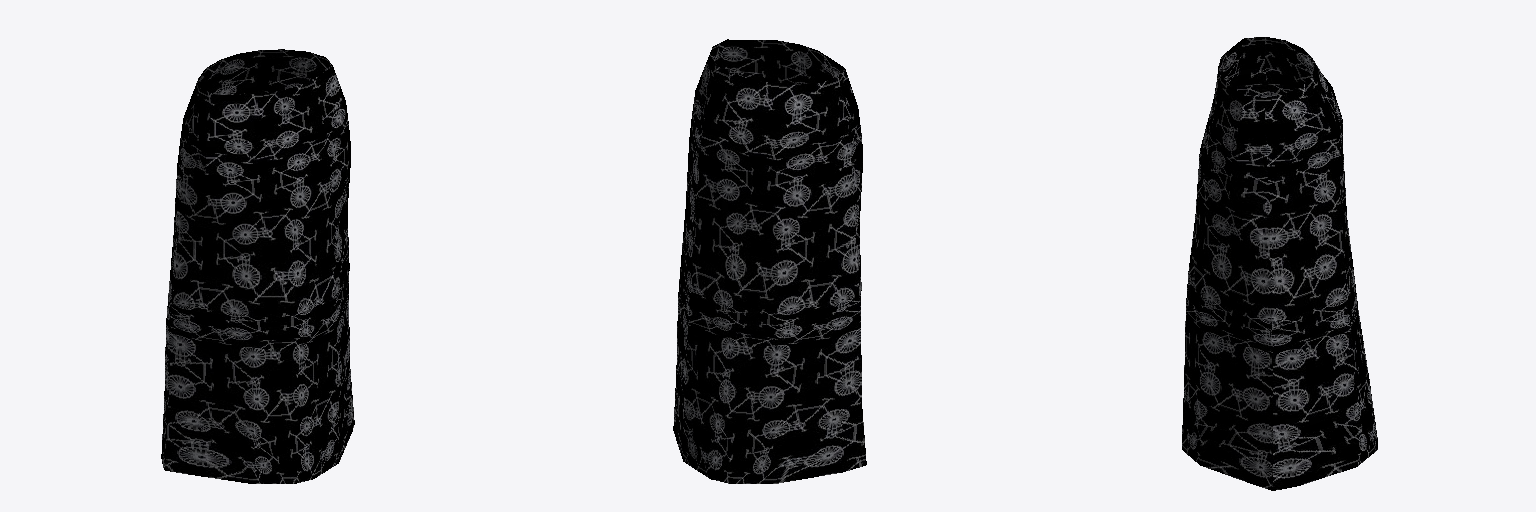
The picture shows the model from 3 angles: view 1: azimuth 30°, elevation 25°; view 2: azimuth 150°, elevation 25°; view 3: azimuth 270°, elevation 25°; orthographic projection.
Parts seen in each view (by area): view 1: g1_avatar_skirt.000; view 2: g1_avatar_skirt.000; view 3: g1_avatar_skirt.000.
Part boxes in pixels (left/top/right/bottom): g1_avatar_skirt.000: left=161, top=49, right=354, bottom=483; g1_avatar_skirt.000: left=673, top=39, right=866, bottom=483; g1_avatar_skirt.000: left=1182, top=37, right=1377, bottom=490.
Size of the model in its own units: 0.3366 by 0.6394 by 0.2998.
Materials: 1 (1 with a texture image).